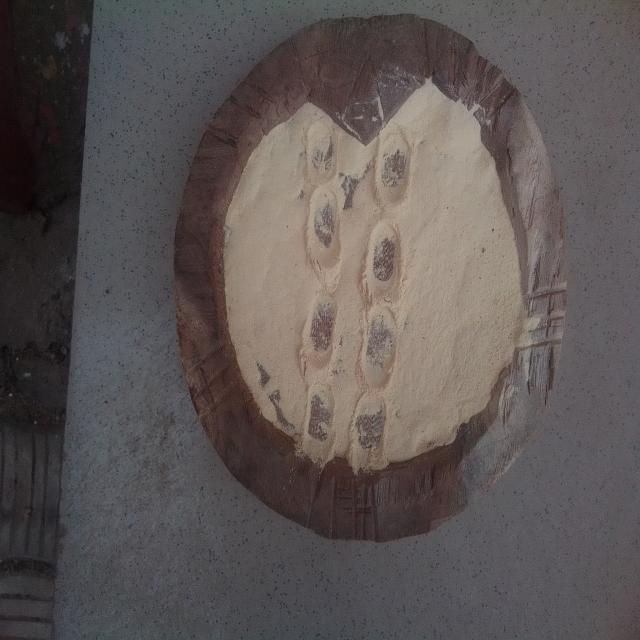single: (303, 179, 348, 289), (361, 214, 406, 304), (300, 286, 340, 386), (299, 376, 342, 467), (360, 304, 400, 392), (376, 124, 416, 212), (352, 390, 389, 476), (303, 119, 338, 188)
